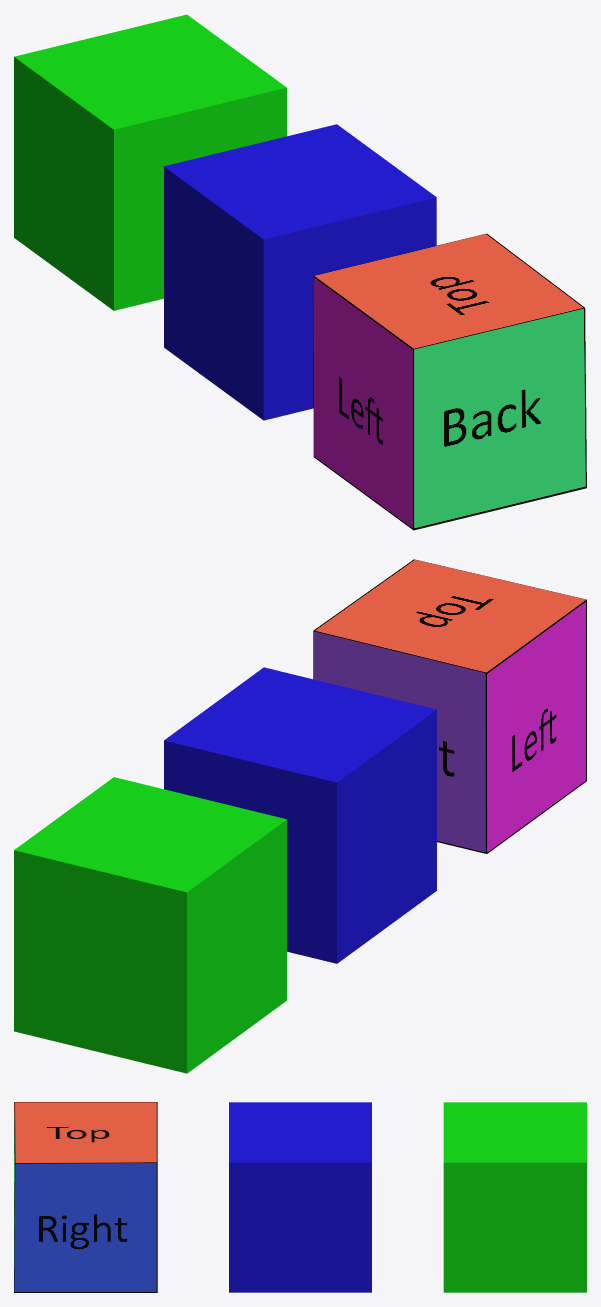
Rendered from blocks.fbx.
3 renders of one model, top to bottom at view 1: azimuth 30°, elevation 25°; view 2: azimuth 150°, elevation 25°; view 3: azimuth 270°, elevation 25°, orthographic. The views are drawn at different scales.
Visible parts, largest first — view 1: A, C, B; view 2: C, B, A; view 3: A, C, B.
Part boxes in pixels (x1,y1,x2,y2): A: (313,233,586,530); C: (14,14,286,310); B: (164,124,436,420); C: (14,777,286,1073); B: (164,667,436,963); A: (313,559,586,853); A: (14,1102,157,1292); C: (443,1102,586,1292); B: (229,1102,371,1292).
Size of the model in its own units: 200 by 200 by 800.
3 materials, 1 textured.
